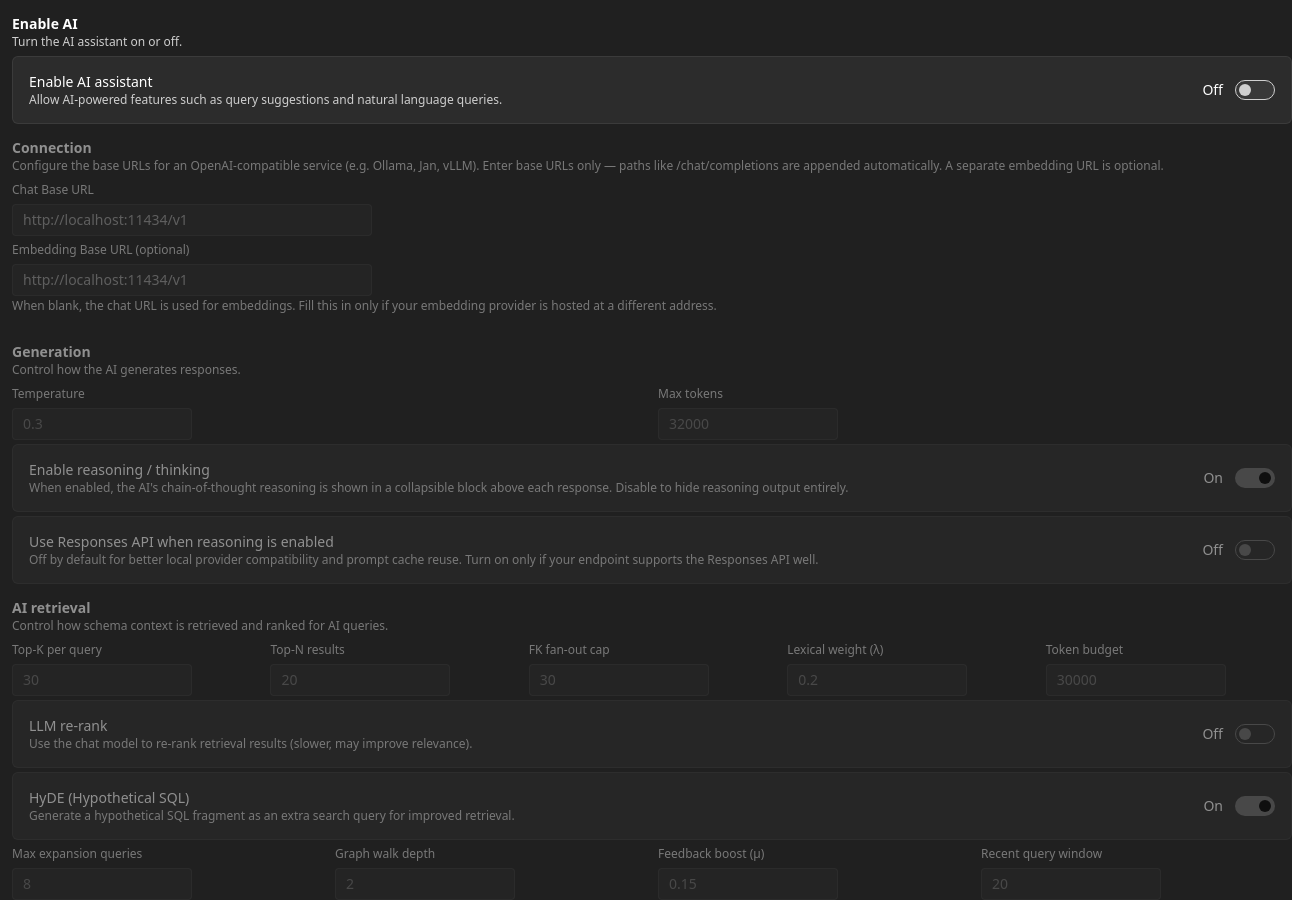
it: AiSettings › toggling AI on enables the other fields
The width and height of the screenshot is (1292, 900).
Expected: the field with test id "settings-ai-endpoint" is disabled, [12,204,372,236]
Toggle on
Click the switch labelled "Enable AI assistant" at (1255, 90), box [1235,80,1275,100]
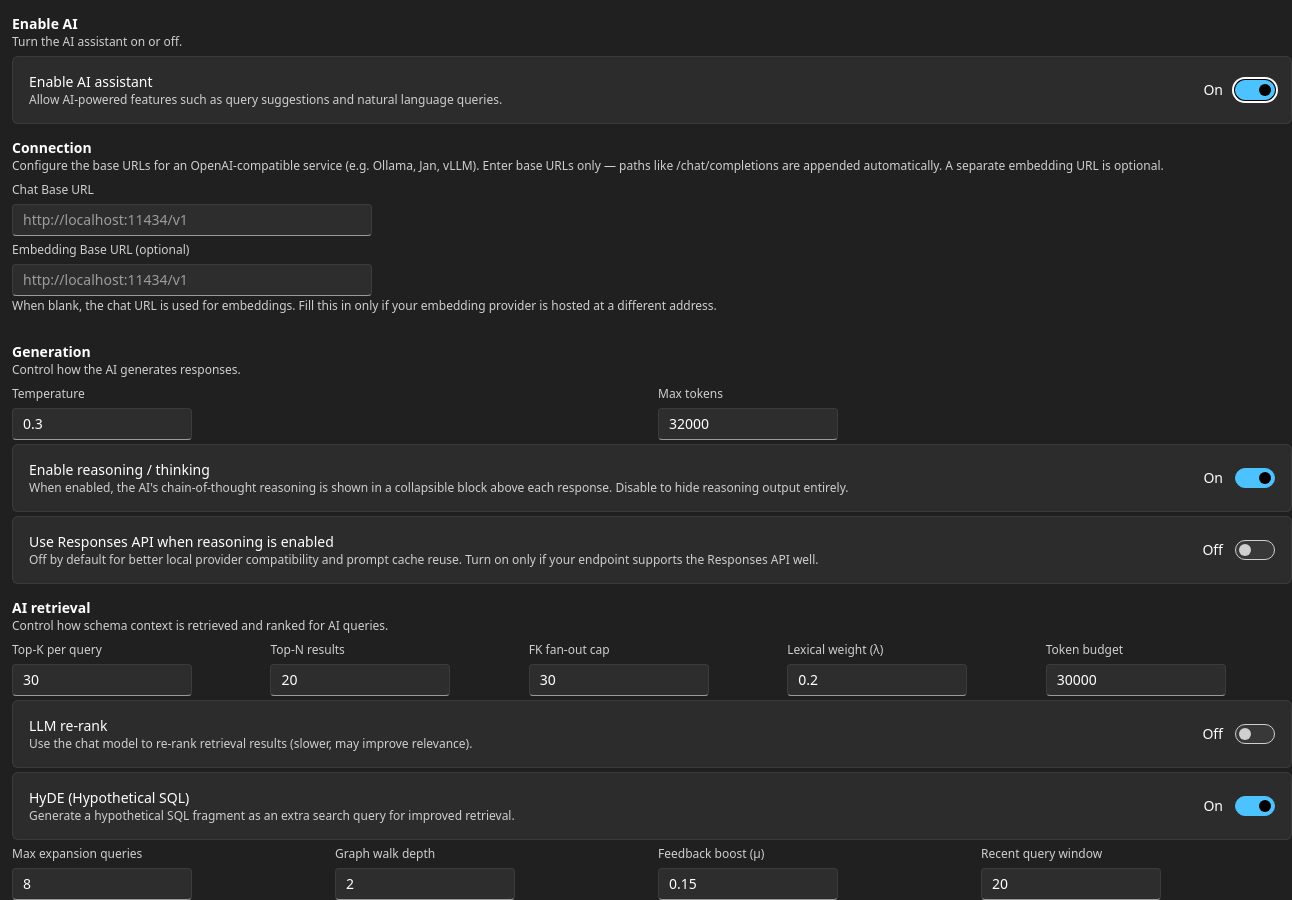
Result: the field with test id "settings-ai-endpoint" is enabled at [12,204,372,236]
Result: the number field with test id "settings-ai-temperature" is enabled at [12,408,192,440]
Result: the number field with test id "settings-ai-max-tokens" is enabled at [658,408,838,440]
